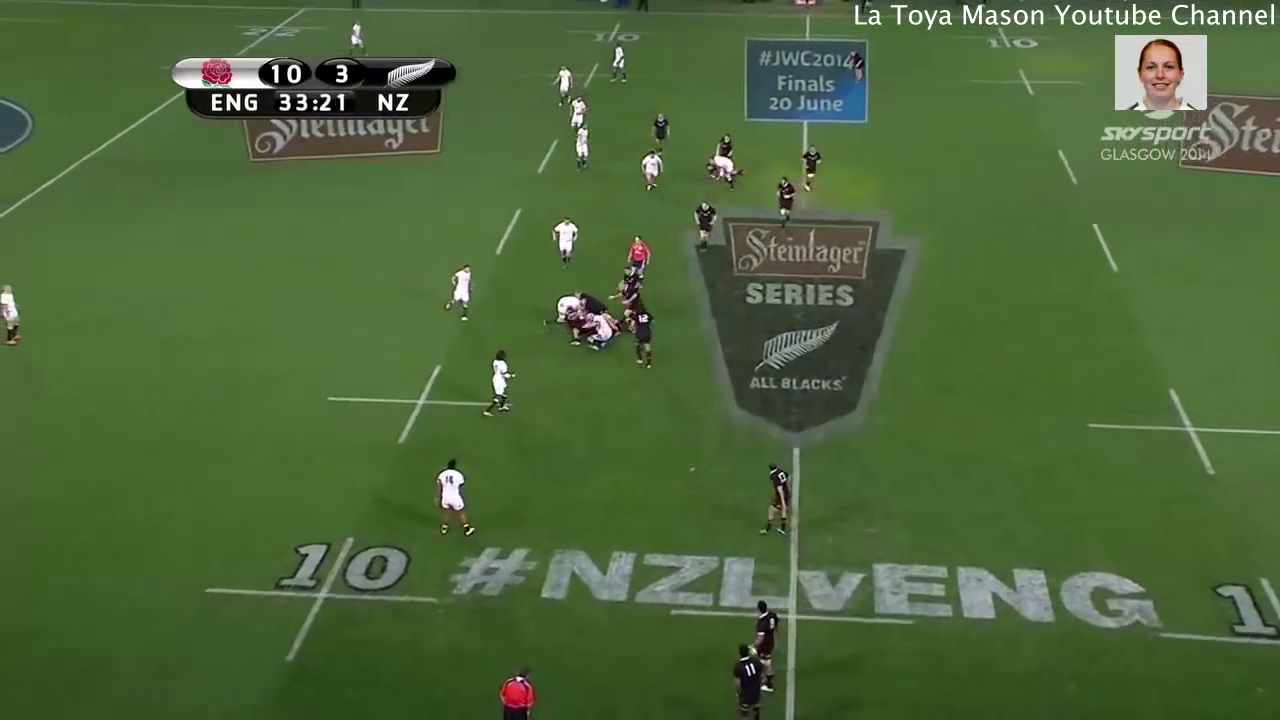10_metre: (192, 534, 449, 667), (1073, 383, 1280, 481), (319, 362, 521, 451), (1145, 570, 1280, 662), (966, 65, 1088, 100), (544, 59, 653, 91), (562, 19, 668, 47), (947, 27, 1061, 51)
player: (431, 450, 478, 541), (756, 455, 798, 541), (724, 643, 769, 720), (750, 597, 784, 690), (480, 346, 520, 421), (438, 263, 480, 328), (493, 664, 535, 720), (686, 197, 720, 255), (546, 215, 583, 267), (1, 278, 27, 352), (796, 141, 827, 201), (629, 305, 657, 370), (699, 150, 747, 187), (772, 174, 799, 229), (605, 41, 634, 84), (626, 232, 652, 279), (570, 123, 597, 168), (646, 110, 674, 153), (612, 279, 645, 309), (564, 94, 590, 132), (553, 63, 573, 106), (847, 48, 867, 86), (711, 129, 738, 155)
ruck: (540, 289, 624, 348)
